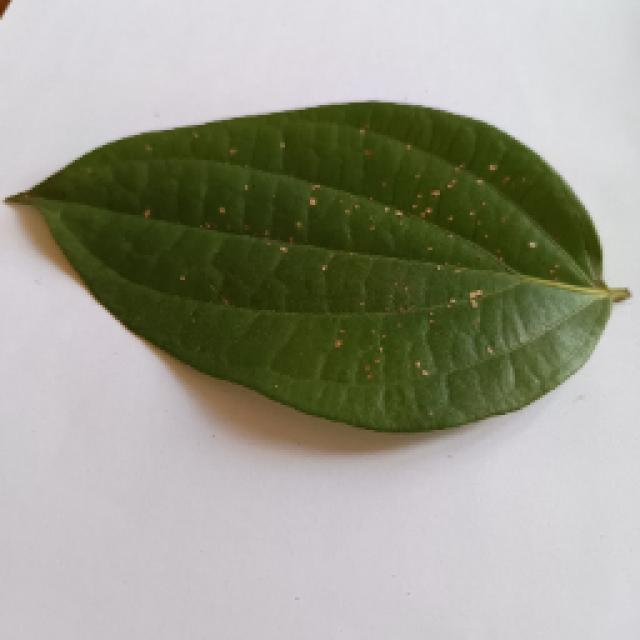pollu-disease: (5, 100, 627, 430)
